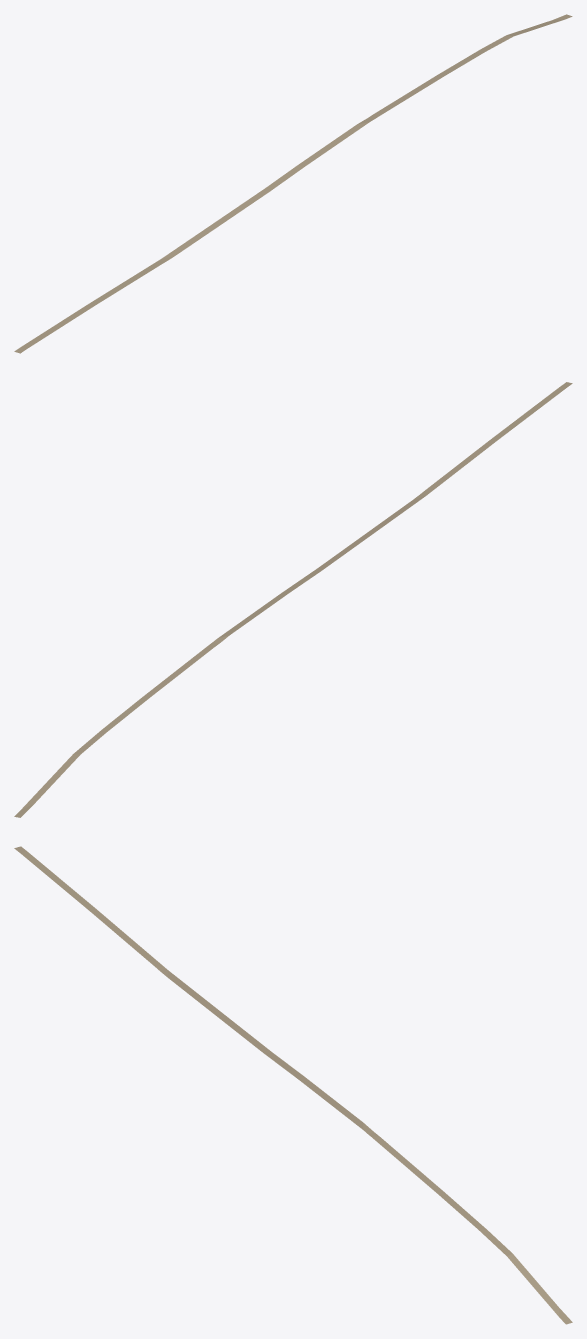
File: farm_-31_-25_track.glb
3 renders of one model, top to bottom at view 1: azimuth 30°, elevation 25°; view 2: azimuth 210°, elevation 25°; view 3: azimuth 270°, elevation 25°, orthographic. The views are drawn at different scales.
Parts seen in each view (by area): view 1: geometry_0; view 2: geometry_0; view 3: geometry_0.
Part boxes in pixels (x1,y1,x2,y2): geometry_0: (14, 14, 572, 353); geometry_0: (14, 382, 572, 817); geometry_0: (14, 846, 572, 1324).
Bounding box in the file's own units: 412 × 23.77 × 229.
